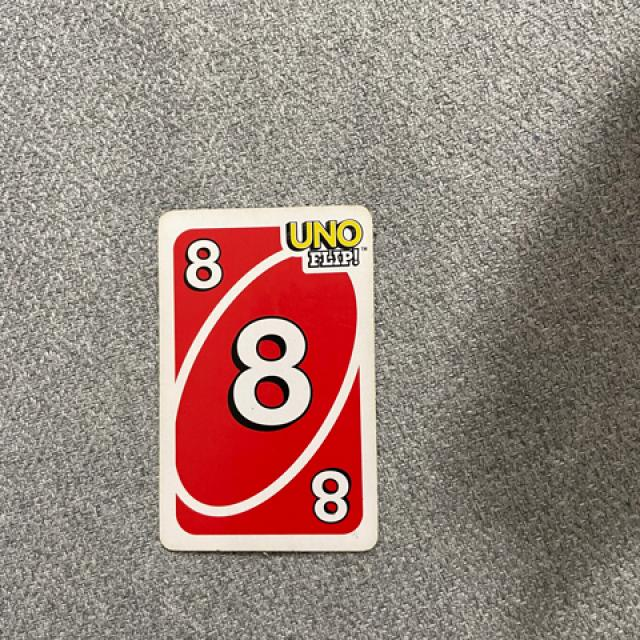lred-8: (168, 225, 244, 302)
